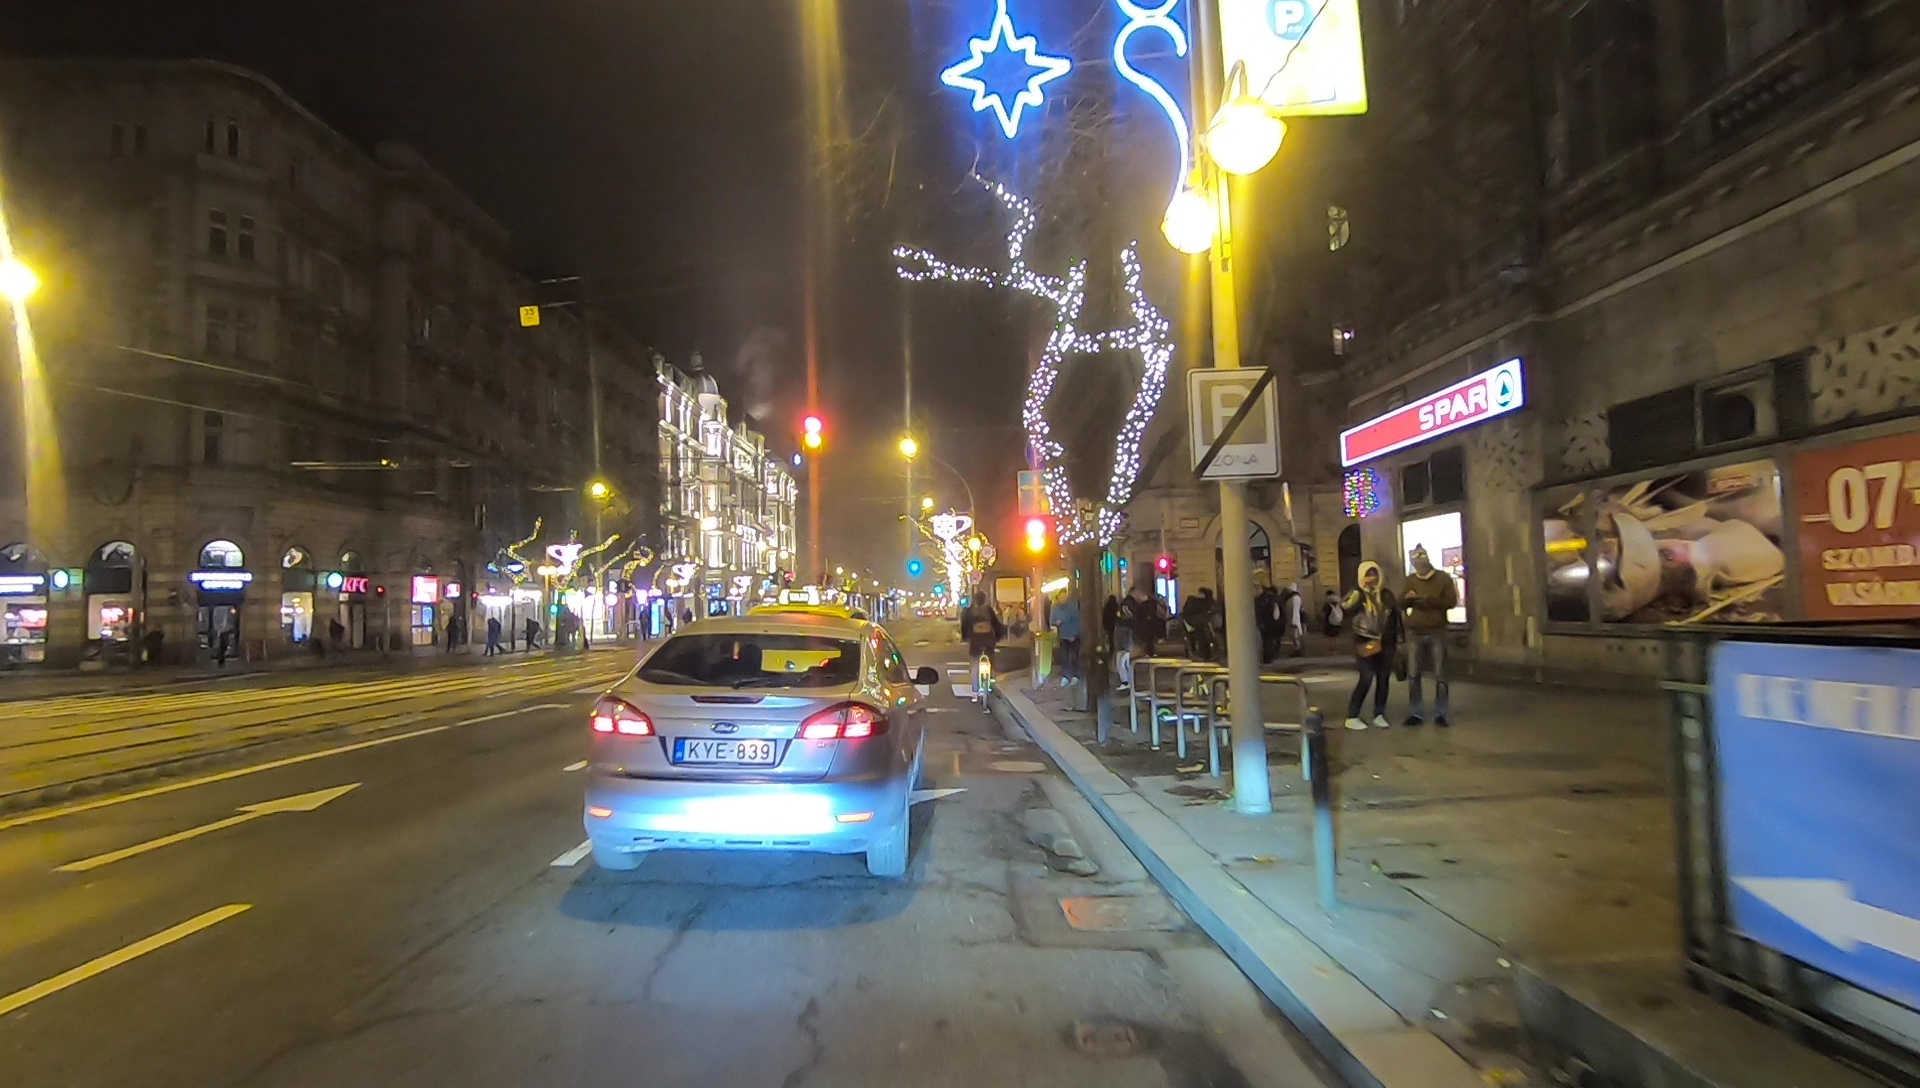person: (1401, 549, 1460, 724), (1334, 560, 1395, 726), (1051, 588, 1082, 686), (1125, 593, 1160, 674), (1185, 591, 1216, 656), (1285, 581, 1307, 655), (1260, 586, 1285, 650), (1323, 588, 1344, 645), (482, 613, 505, 656), (142, 623, 163, 664), (519, 613, 541, 650), (642, 605, 651, 639)
